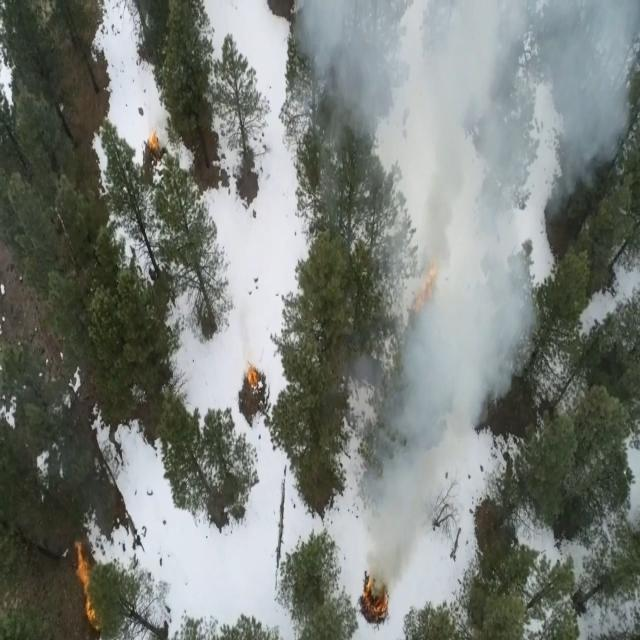Fire: (69, 540, 109, 640), (236, 356, 276, 424), (360, 567, 394, 632), (420, 266, 442, 328), (143, 128, 173, 164)
Smoke: (294, 4, 640, 596)
